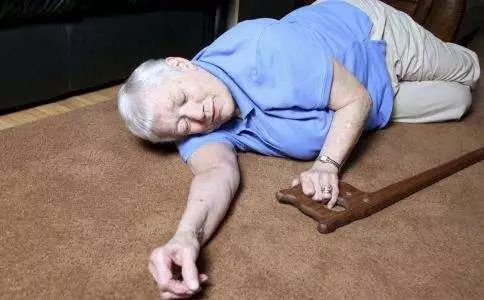falling: (102, 6, 463, 271)
